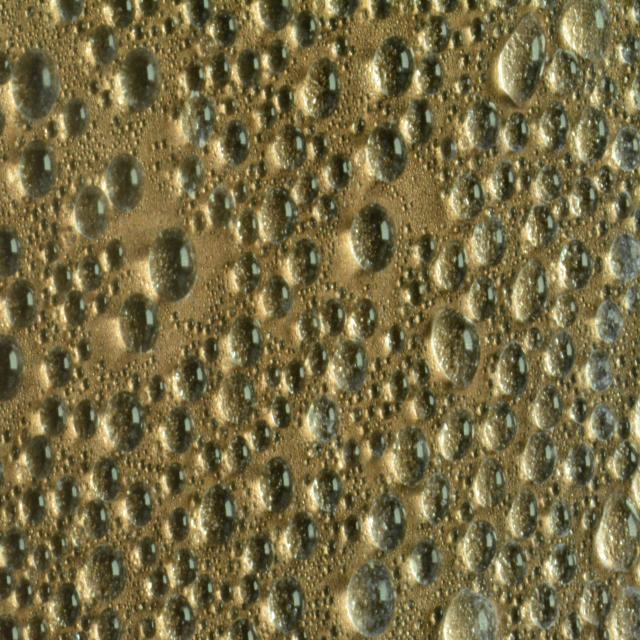dr: (496, 12, 548, 104), (346, 559, 398, 638), (431, 306, 481, 388), (10, 45, 61, 122), (147, 226, 198, 303), (595, 492, 640, 574), (560, 0, 613, 64), (350, 202, 396, 275), (441, 586, 498, 640), (118, 47, 162, 112), (373, 34, 415, 98), (511, 256, 550, 324), (367, 120, 408, 184), (105, 150, 146, 213), (105, 391, 147, 452), (303, 56, 343, 120), (84, 544, 127, 602), (120, 290, 160, 352), (392, 424, 430, 489), (18, 138, 59, 198), (200, 483, 239, 546), (368, 492, 408, 552), (72, 183, 112, 240), (261, 185, 298, 245), (268, 577, 306, 634), (332, 338, 370, 394), (218, 373, 258, 426), (462, 518, 498, 576), (438, 410, 476, 463), (465, 97, 501, 152), (558, 237, 594, 292), (576, 106, 609, 166), (228, 314, 264, 368), (182, 92, 216, 149), (259, 456, 293, 512), (473, 218, 509, 270), (474, 456, 508, 511), (497, 340, 529, 398), (173, 353, 209, 403), (522, 431, 557, 482), (451, 170, 485, 222), (421, 471, 453, 526), (485, 400, 518, 453), (546, 48, 581, 97), (162, 593, 198, 640), (286, 511, 318, 562), (539, 100, 571, 151), (529, 580, 560, 632), (308, 394, 340, 444), (1, 333, 24, 402), (163, 406, 196, 454), (220, 118, 252, 167), (510, 486, 538, 542), (611, 586, 640, 640), (436, 242, 466, 294), (274, 123, 307, 170), (289, 239, 322, 286), (580, 579, 613, 626), (468, 273, 499, 323), (609, 232, 640, 282), (8, 279, 38, 330), (497, 540, 528, 589), (415, 51, 447, 97), (410, 540, 442, 586), (611, 124, 640, 174), (262, 274, 293, 320), (405, 98, 435, 145), (312, 468, 344, 512), (532, 384, 564, 428), (526, 205, 558, 249), (89, 23, 119, 69), (125, 480, 155, 526), (546, 330, 574, 379), (26, 435, 56, 480), (92, 456, 122, 501), (207, 184, 236, 230), (52, 583, 82, 627), (566, 442, 595, 487), (586, 348, 615, 393), (595, 298, 624, 342), (1, 527, 29, 572), (571, 177, 600, 220), (550, 542, 578, 586), (82, 498, 111, 540), (258, 0, 296, 32), (64, 96, 92, 138), (40, 394, 68, 436), (54, 474, 82, 516), (233, 252, 261, 294), (246, 531, 274, 573), (177, 154, 206, 194), (2, 224, 23, 279), (46, 346, 72, 390), (351, 297, 377, 341), (491, 160, 517, 203), (535, 163, 562, 204), (421, 15, 450, 53), (226, 434, 252, 476), (21, 486, 48, 526), (294, 8, 320, 49), (504, 111, 530, 152), (77, 253, 104, 292), (73, 398, 99, 438), (172, 548, 198, 588), (615, 440, 639, 483), (237, 48, 263, 87), (590, 403, 616, 442), (212, 10, 238, 48), (322, 298, 347, 337), (553, 292, 580, 328), (64, 288, 88, 328), (327, 152, 352, 190), (267, 38, 291, 76), (549, 500, 574, 536), (238, 209, 262, 246), (97, 606, 123, 640), (209, 51, 232, 89), (296, 169, 321, 203), (185, 0, 214, 29), (109, 0, 136, 31), (414, 387, 438, 421), (285, 358, 307, 395), (193, 574, 216, 609), (299, 310, 322, 345), (168, 506, 190, 542), (226, 618, 262, 640), (239, 572, 262, 606), (148, 565, 170, 600), (308, 342, 330, 377), (201, 440, 225, 472), (185, 59, 207, 93), (389, 368, 411, 402), (315, 196, 339, 227), (252, 416, 272, 453), (165, 461, 186, 496), (53, 262, 75, 295), (105, 238, 127, 270), (417, 232, 438, 265), (15, 577, 36, 609), (56, 1, 86, 23), (620, 33, 640, 66), (271, 396, 291, 428), (342, 438, 362, 469), (343, 511, 362, 543), (33, 542, 53, 572), (138, 536, 158, 566), (387, 323, 407, 353), (614, 190, 634, 220), (26, 614, 49, 640), (1, 613, 23, 640), (369, 428, 388, 459), (50, 530, 70, 559), (328, 0, 360, 18), (259, 100, 278, 130), (565, 612, 585, 640), (597, 78, 617, 106), (148, 373, 166, 403), (370, 0, 395, 21), (312, 132, 331, 159), (440, 135, 459, 162), (572, 396, 590, 424), (414, 358, 431, 387), (202, 336, 220, 363), (278, 85, 296, 112), (408, 279, 426, 306), (526, 326, 544, 353), (470, 17, 488, 43), (265, 362, 282, 388), (598, 167, 614, 194), (137, 1, 162, 18), (616, 416, 633, 440), (5, 499, 20, 525), (141, 614, 157, 638), (44, 240, 60, 263), (335, 34, 350, 58), (458, 72, 473, 96), (460, 499, 475, 523), (77, 339, 93, 361), (625, 286, 639, 310), (234, 182, 249, 204), (95, 293, 109, 315), (100, 88, 114, 110), (436, 1, 461, 13), (220, 582, 233, 604), (451, 28, 464, 50), (351, 117, 366, 136), (130, 371, 143, 391), (414, 0, 432, 14), (163, 16, 176, 35), (40, 582, 52, 602), (134, 21, 146, 41), (439, 167, 452, 185), (598, 218, 610, 237), (110, 277, 122, 296), (263, 83, 276, 100), (601, 284, 614, 301), (257, 158, 268, 178), (616, 353, 627, 372), (39, 328, 50, 345), (10, 444, 21, 461), (351, 406, 362, 423), (370, 382, 380, 399), (41, 287, 51, 303), (90, 79, 100, 95), (40, 309, 49, 324), (3, 428, 11, 444), (184, 36, 193, 50), (76, 365, 85, 379), (40, 218, 49, 231)
